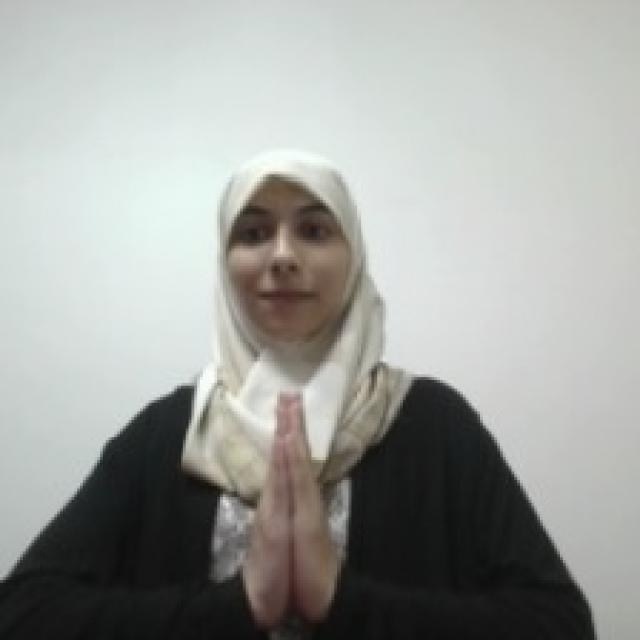sorry: (242, 384, 342, 621)
